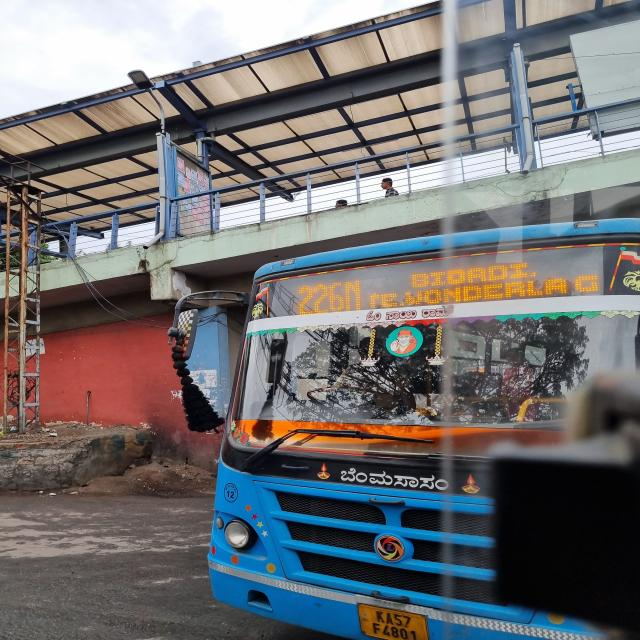bus: (190, 226, 640, 640)
display: (285, 255, 621, 313)
dnumber: (297, 280, 363, 315)
